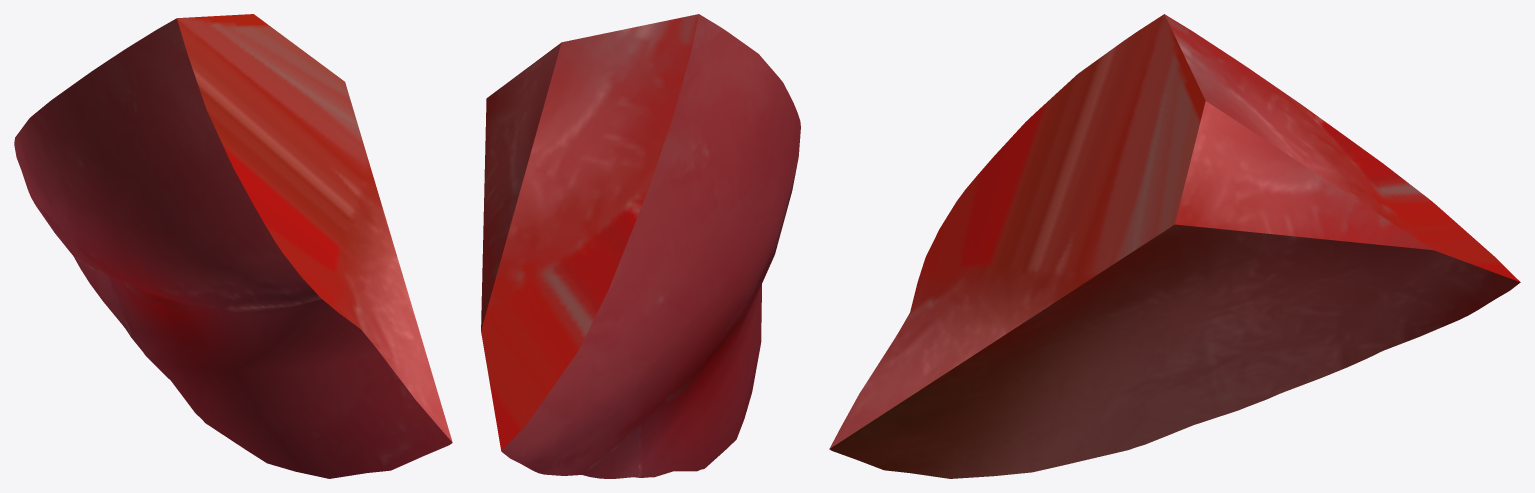
Rendered from SM_HeartPiece_3_.FBX.
The picture shows the model from 3 angles, left to right: view 1: azimuth 30°, elevation 25°; view 2: azimuth 150°, elevation 25°; view 3: azimuth 270°, elevation 25°; orthographic projection. The views are drawn at different scales.
Parts seen in each view (by area): view 1: SM_HeartPiece_3_; view 2: SM_HeartPiece_3_; view 3: SM_HeartPiece_3_.
Part boxes in pixels (left/top/right/bottom): SM_HeartPiece_3_: left=14, top=14, right=452, bottom=478; SM_HeartPiece_3_: left=481, top=14, right=800, bottom=478; SM_HeartPiece_3_: left=829, top=14, right=1520, bottom=478.
Size of the model in its own units: 103 by 274 by 194.
